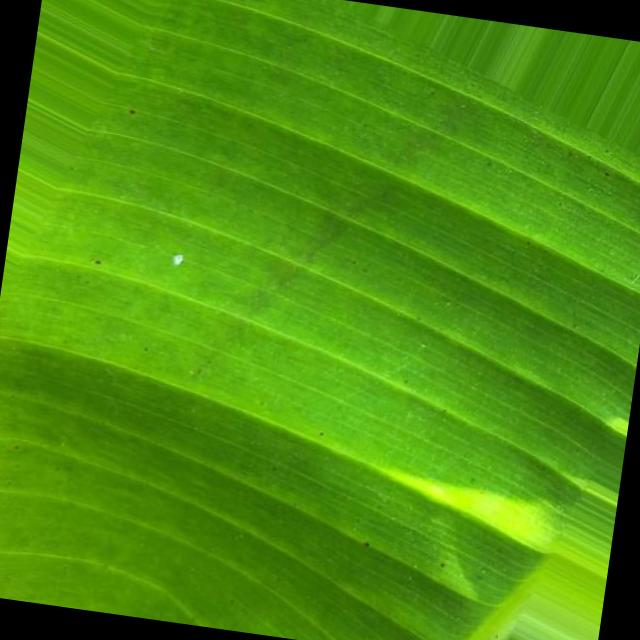Banana_Healthy: (31, 21, 640, 640)
